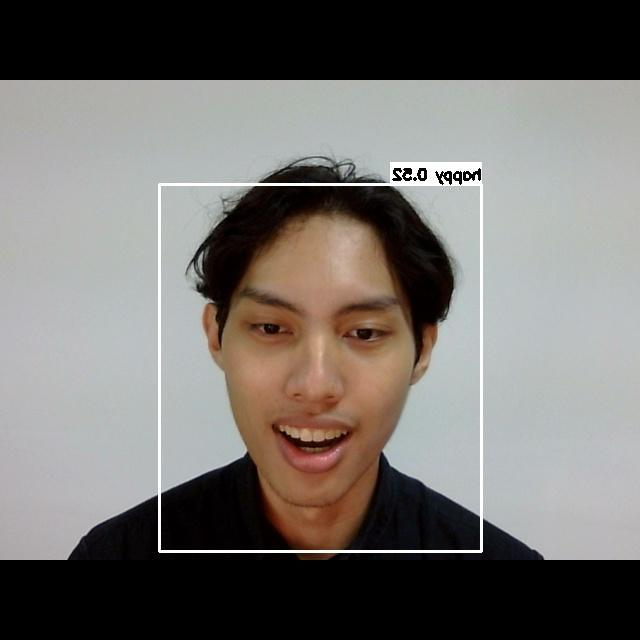Surprised: (202, 249, 415, 483)
